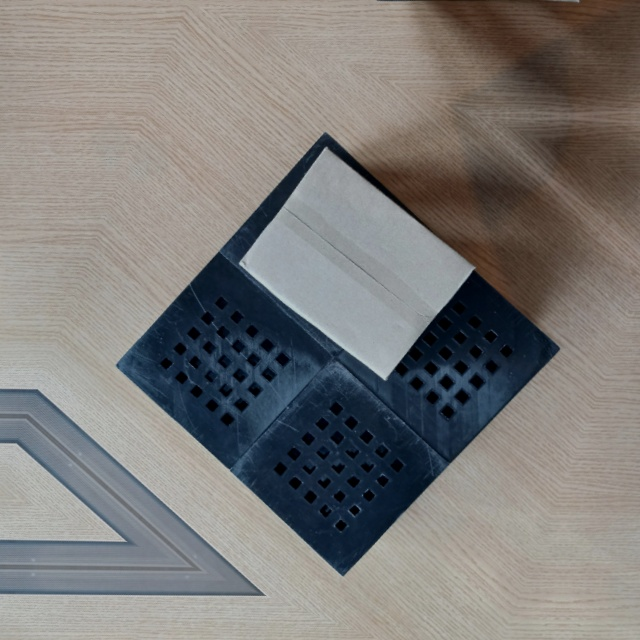box: (233, 135, 478, 391)
pallet: (106, 123, 567, 579)
